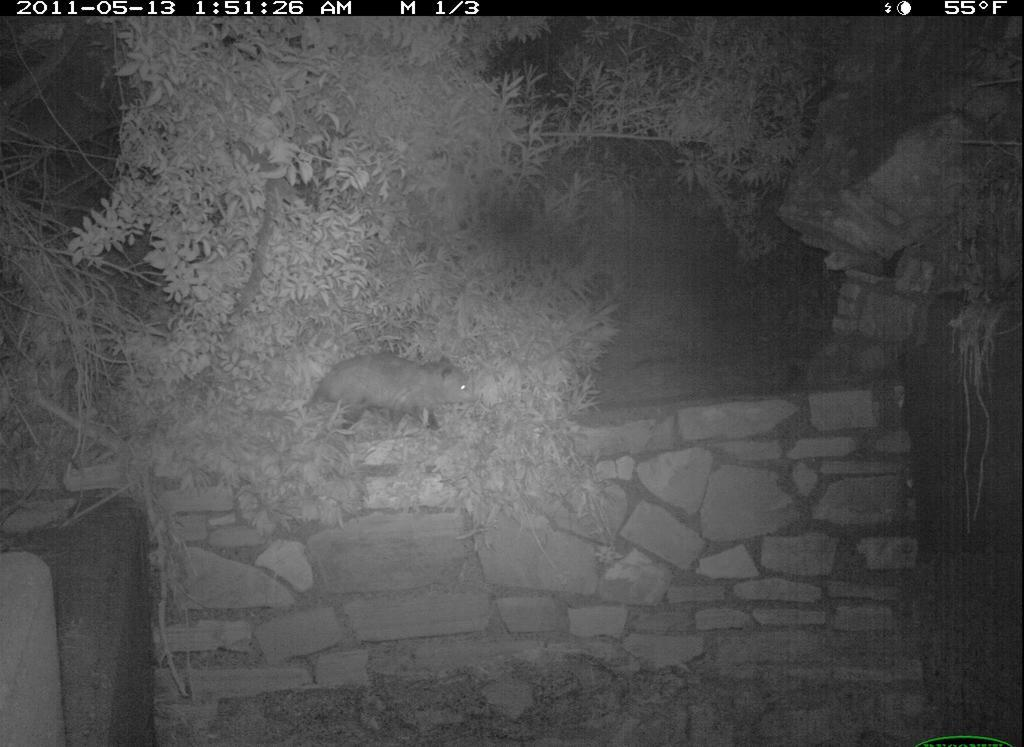opossum: (235, 347, 483, 446)
